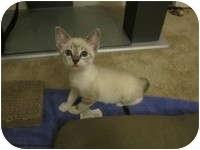siamese: (51, 23, 104, 75)
